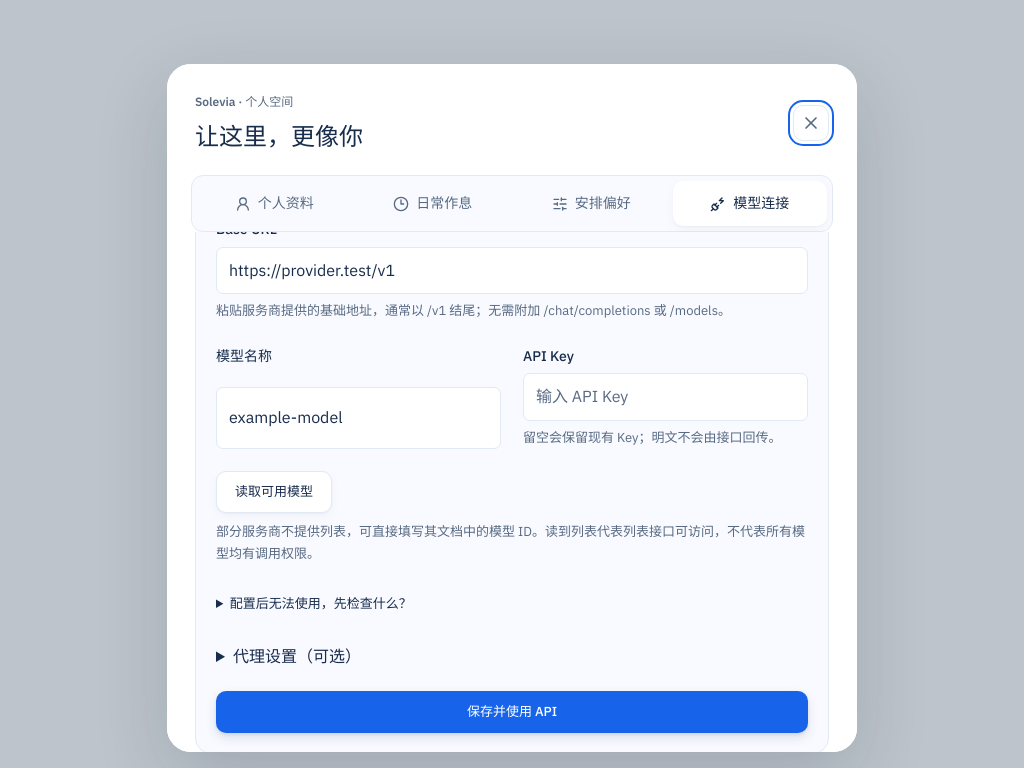
Test: keeps manual model entry available when a provider denies its catalog
The image size is (1024, 768).
(page scrolled)
Click the button "读取可用模型" at (274, 492), box [216, 471, 332, 513]
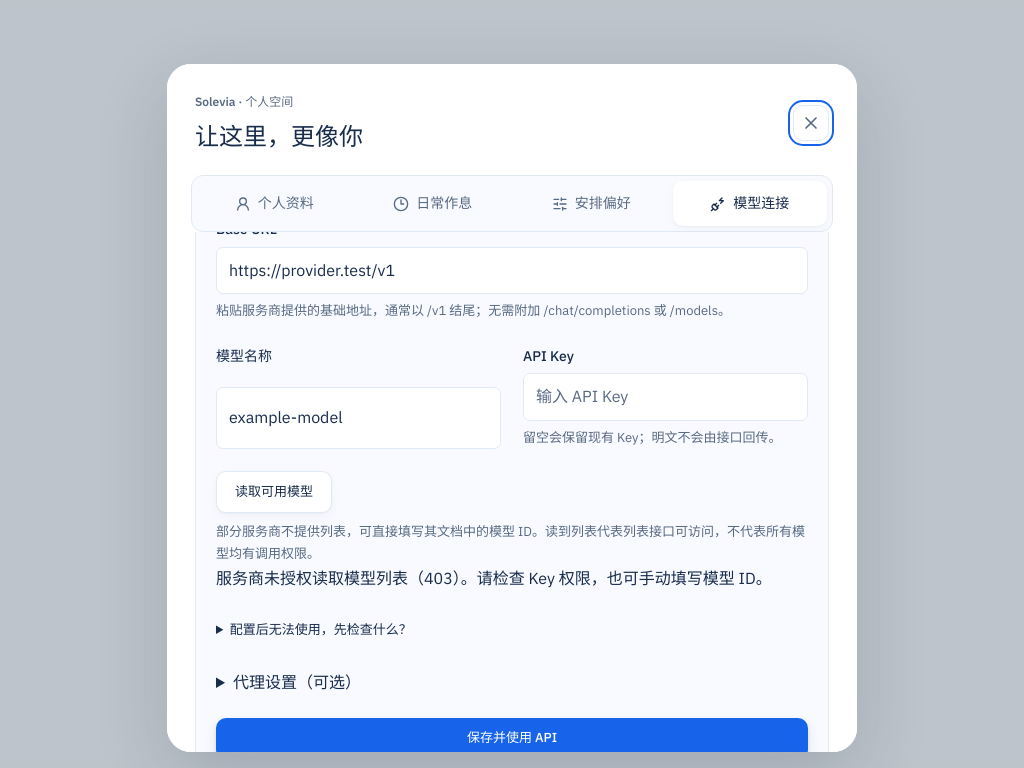
expect the field labelled "模型名称" is enabled: met, box [216, 387, 501, 449]
expect the text "服务商未授权读取模型列表（403）。请检查 Key 权限，也可手动填写模型 ID。" is shown: met, box [216, 565, 808, 591]
